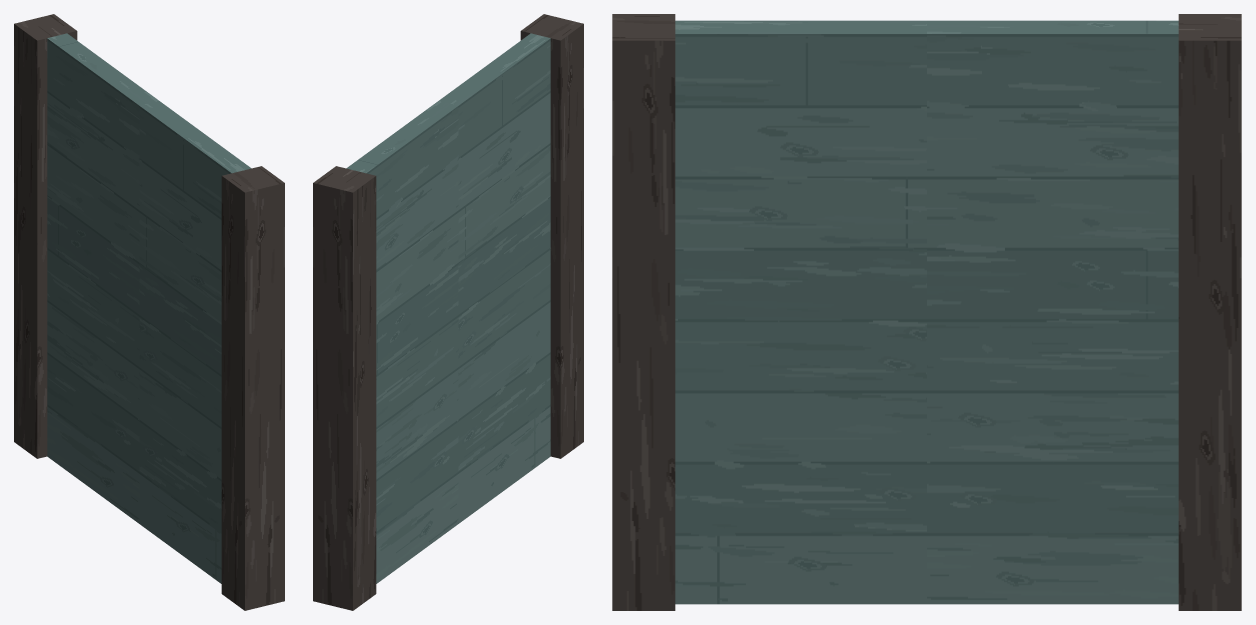
The model's file is wall-wood.gltf.
3 views of the same model, side by side, from view 1: azimuth 30°, elevation 25°; view 2: azimuth 150°, elevation 25°; view 3: azimuth 270°, elevation 25° (orthographic). The views are drawn at different scales.
Visible parts, largest first — view 1: wall-wood; view 2: wall-wood; view 3: wall-wood.
Boxes of the visible parts, x1,y1,x2,y2 form: wall-wood: (14, 14, 284, 610); wall-wood: (313, 14, 583, 610); wall-wood: (612, 14, 1241, 610).
Bounding box in the file's own units: 0.1 × 1 × 1.
2 materials, 2 textured.
